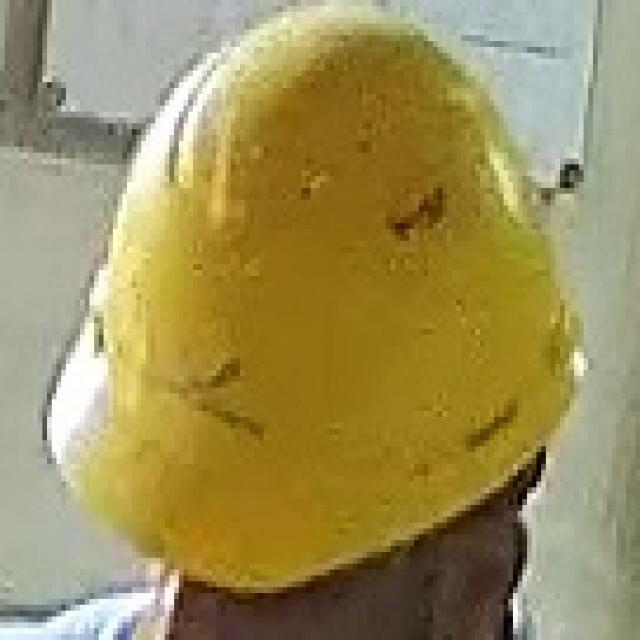yellow helmet: (40, 3, 590, 598)
